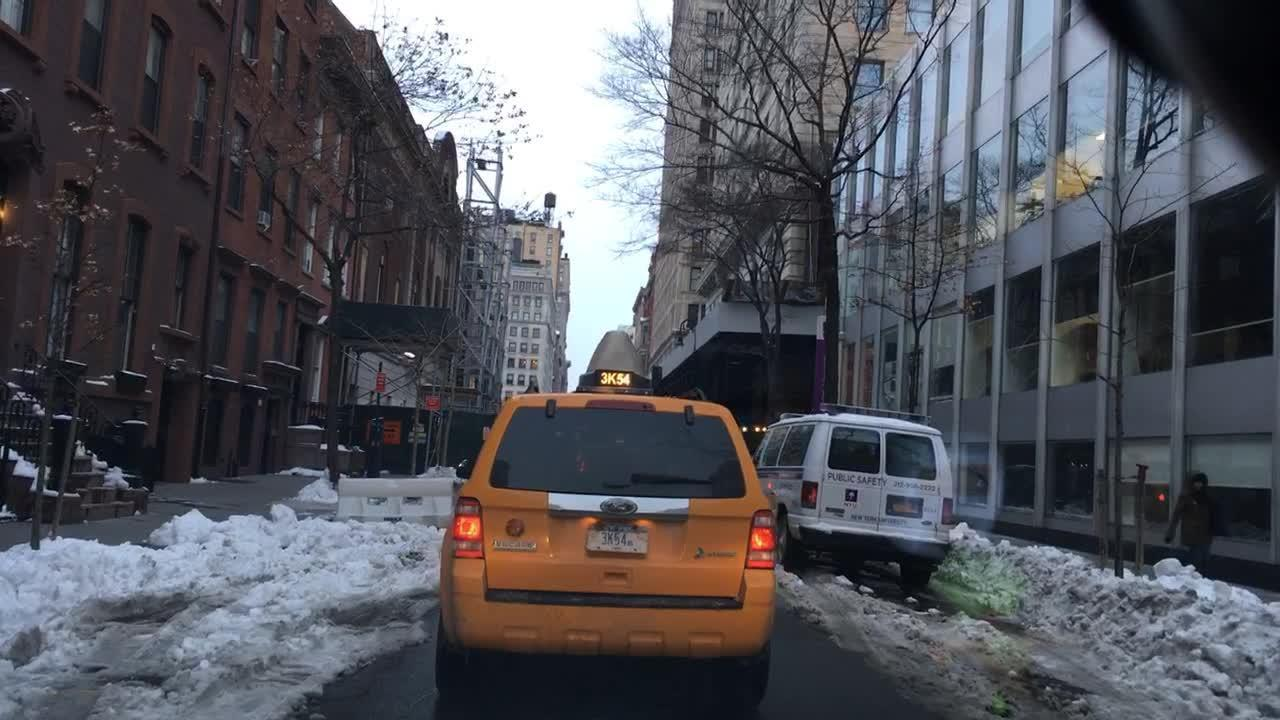ford: (598, 494, 650, 522), (919, 517, 934, 529)
